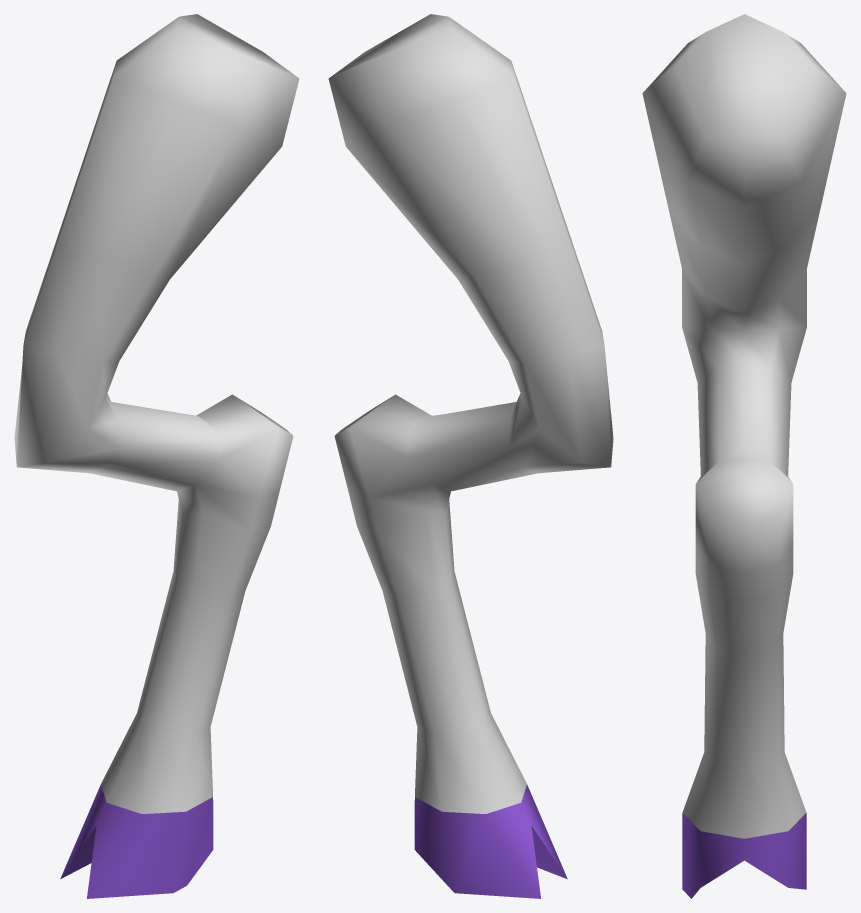
File: GoatLeg.glb
The picture shows the model from 3 angles, left to right: view 1: azimuth 30°, elevation 25°; view 2: azimuth 150°, elevation 25°; view 3: azimuth 270°, elevation 25°; orthographic projection. The views are drawn at different scales.
Parts seen in each view (by area): view 1: Cube.002, Cube.001; view 2: Cube.002, Cube.001; view 3: Cube.002, Cube.001.
Boxes of the visible parts, box(x1,y1,x2,y2) form: Cube.002: box(14, 14, 299, 813); Cube.001: box(60, 784, 213, 898); Cube.002: box(328, 14, 613, 813); Cube.001: box(414, 784, 567, 898); Cube.002: box(642, 14, 846, 838); Cube.001: box(682, 813, 806, 898).
Bounding box in the file's own units: 0.3727 × 1.09 × 0.2251.
